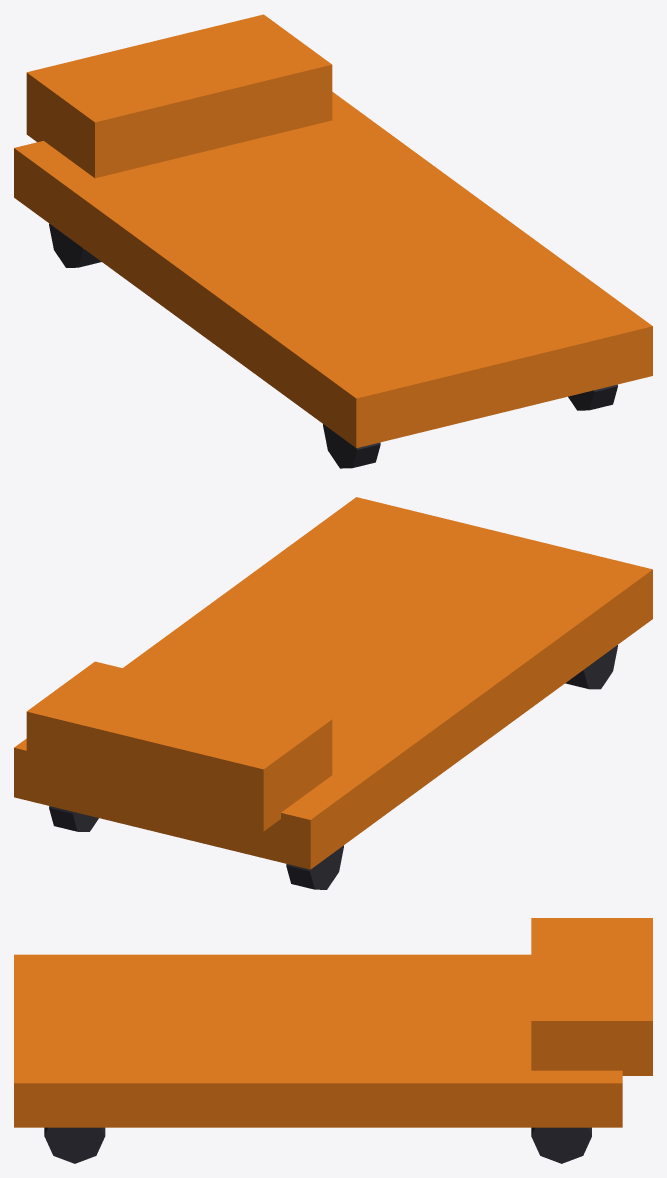
Rendered from garage_mechanic_creeper.glb.
3 renders of one model, top to bottom at view 1: azimuth 30°, elevation 25°; view 2: azimuth 150°, elevation 25°; view 3: azimuth 270°, elevation 25°, orthographic. The views are drawn at different scales.
Parts seen in each view (by area): view 1: mechanic_creeper; view 2: mechanic_creeper; view 3: mechanic_creeper.
Boxes of the visible parts, x1,y1,x2,y2 form: mechanic_creeper: (14, 14, 652, 468); mechanic_creeper: (14, 497, 652, 889); mechanic_creeper: (14, 918, 652, 1163).
Size of the model in its own units: 0.5 by 0.25 by 1.05.
